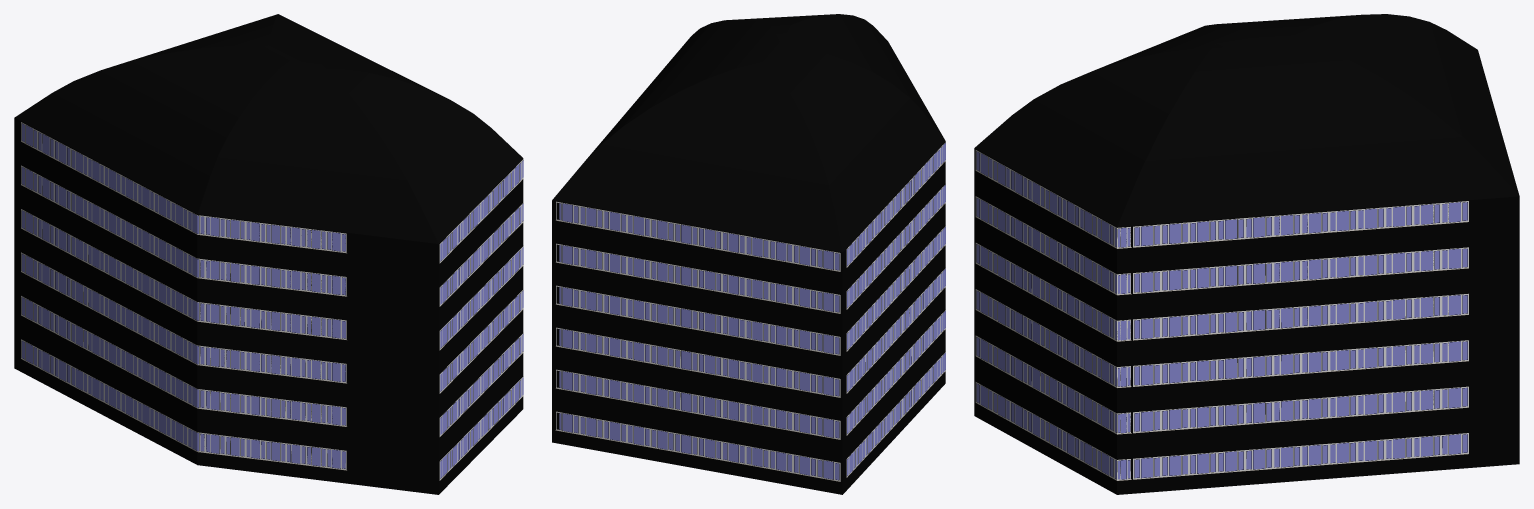
The model's file is BankofTheWestralFederationSPA.fbx.
The picture shows the model from 3 angles, left to right: view 1: azimuth 30°, elevation 25°; view 2: azimuth 150°, elevation 25°; view 3: azimuth 270°, elevation 25°; orthographic projection. The views are drawn at different scales.
Visible parts, largest first — view 1: BankoftheWestralFederationSPA; view 2: BankoftheWestralFederationSPA; view 3: BankoftheWestralFederationSPA.
Boxes of the visible parts, left/top/right/bottom form: BankoftheWestralFederationSPA: left=14, top=14, right=523, bottom=494; BankoftheWestralFederationSPA: left=552, top=14, right=945, bottom=494; BankoftheWestralFederationSPA: left=974, top=14, right=1519, bottom=494.
Bounding box in the file's own units: 3678 × 3561 × 4779.
